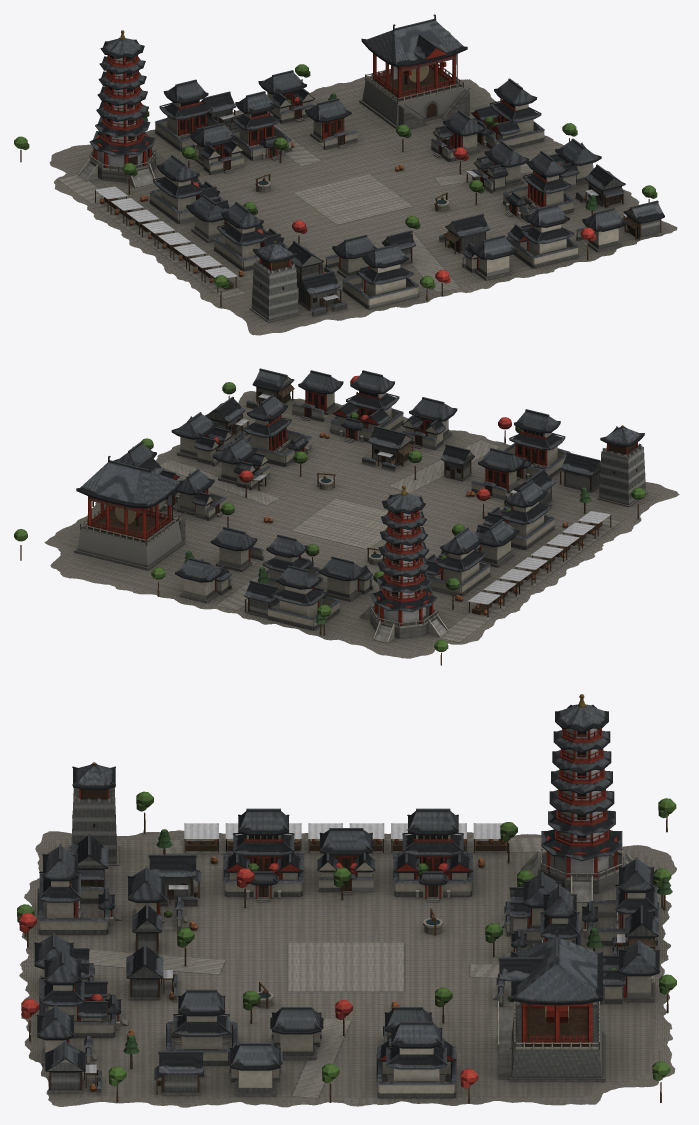
The model's file is kingdoms-town-big-b-sinic.glb.
3 renders of one model, top to bottom at view 1: azimuth 30°, elevation 25°; view 2: azimuth 150°, elevation 25°; view 3: azimuth 270°, elevation 25°, orthographic. The views are drawn at different scales.
Parts seen in each view (by area): view 1: LOD0; view 2: LOD0; view 3: LOD0.
Boxes of the visible parts, x1,y1,x2,y2 form: LOD0: (14,14,677,335); LOD0: (14,368,679,665); LOD0: (17,694,676,1107).
Size of what is drawn, in the model's own units: 8.05 by 2.46 by 8.12.
Materials: 3 (3 with a texture image).
